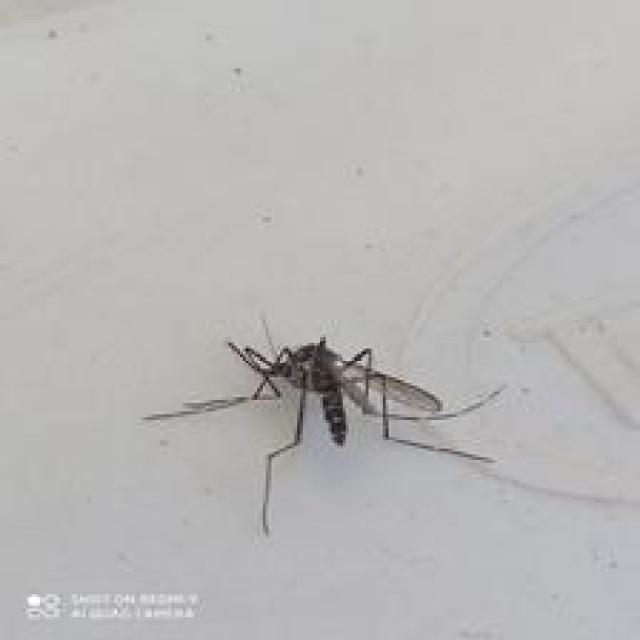Aedes albopictus: (142, 313, 507, 536)
